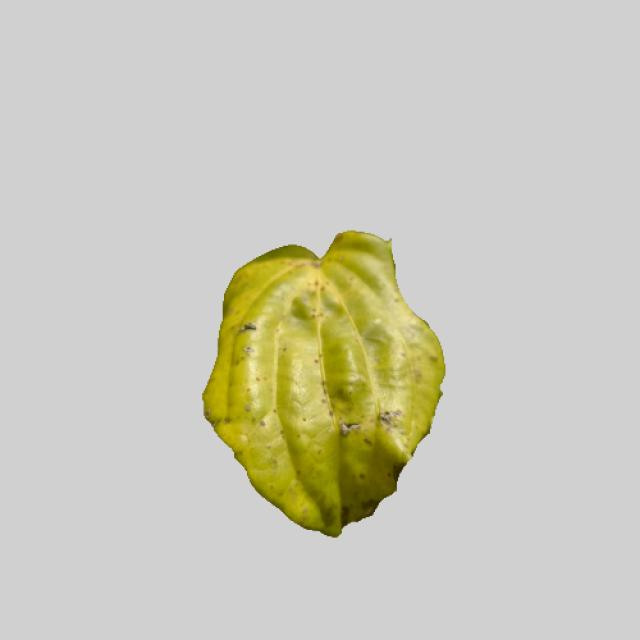yellow-mottle-virus: (191, 229, 444, 535)
